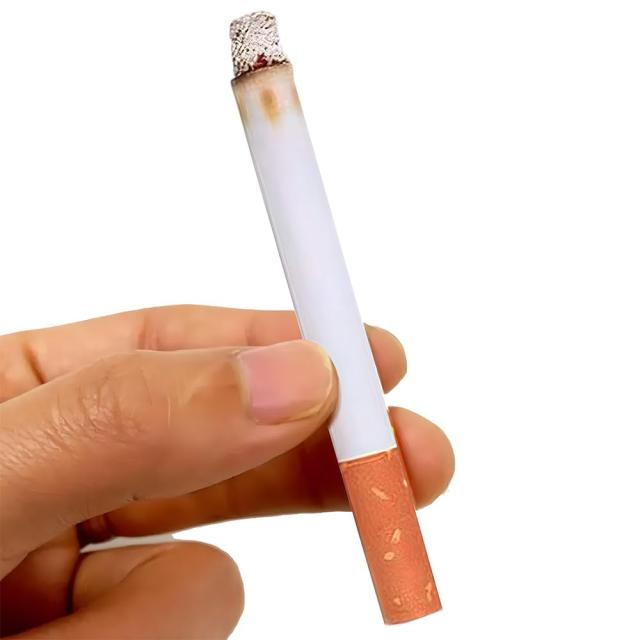Cigarette: (230, 13, 443, 624)
Hand: (2, 296, 459, 640)
